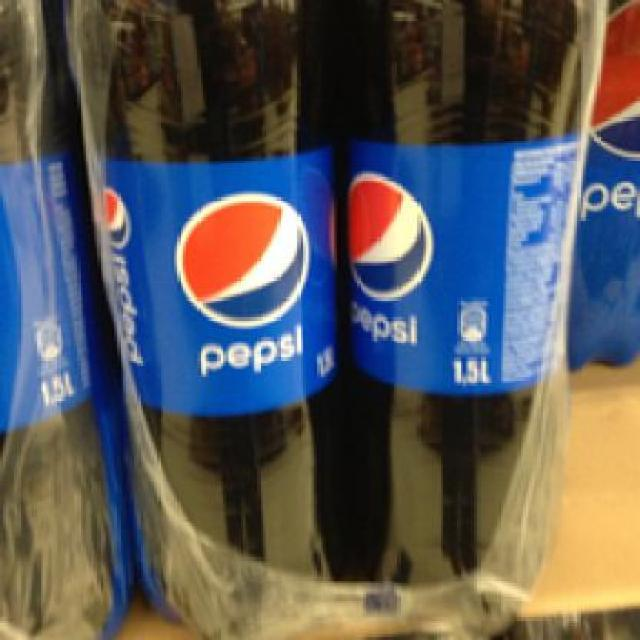Soda: (63, 0, 346, 637), (336, 0, 601, 635)
